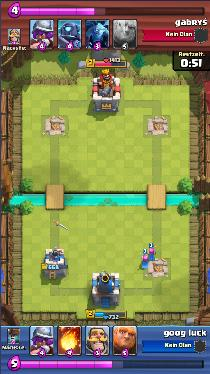ally_archer: (139, 255, 150, 269), (148, 244, 157, 261)
